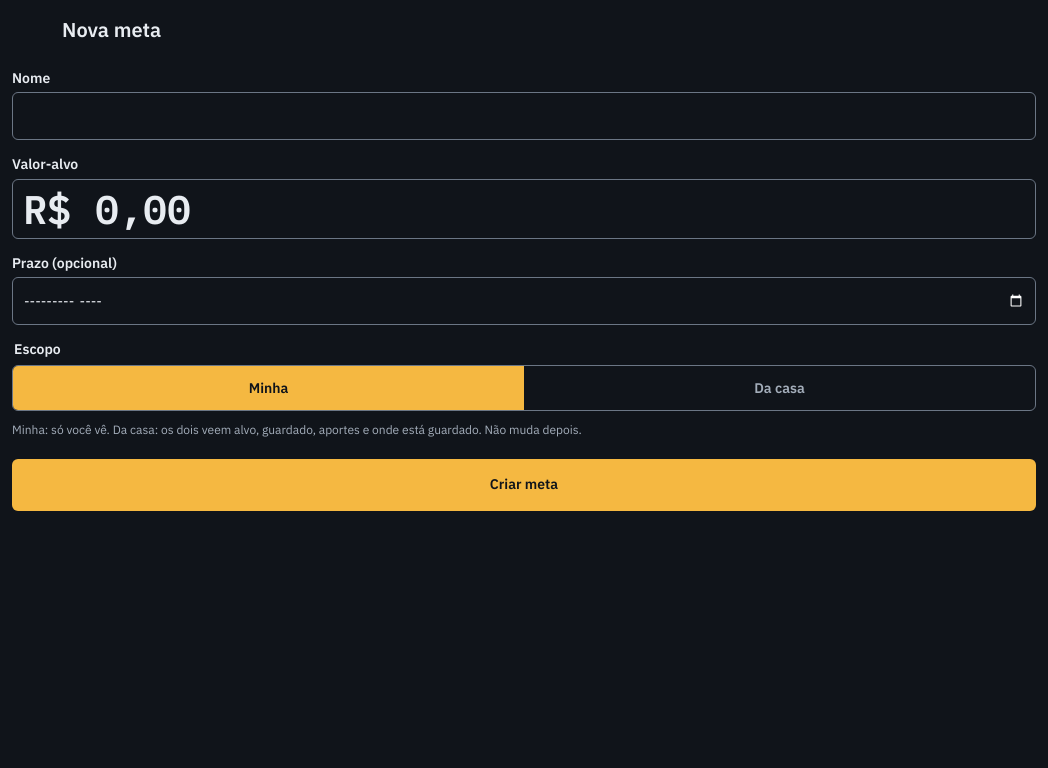
it: T12 nova meta › nome vazio mostra erro e põe o foco no nome
Type "600000" into the field labelled "Valor-alvo" at (524, 209), box [12,179,1036,239]
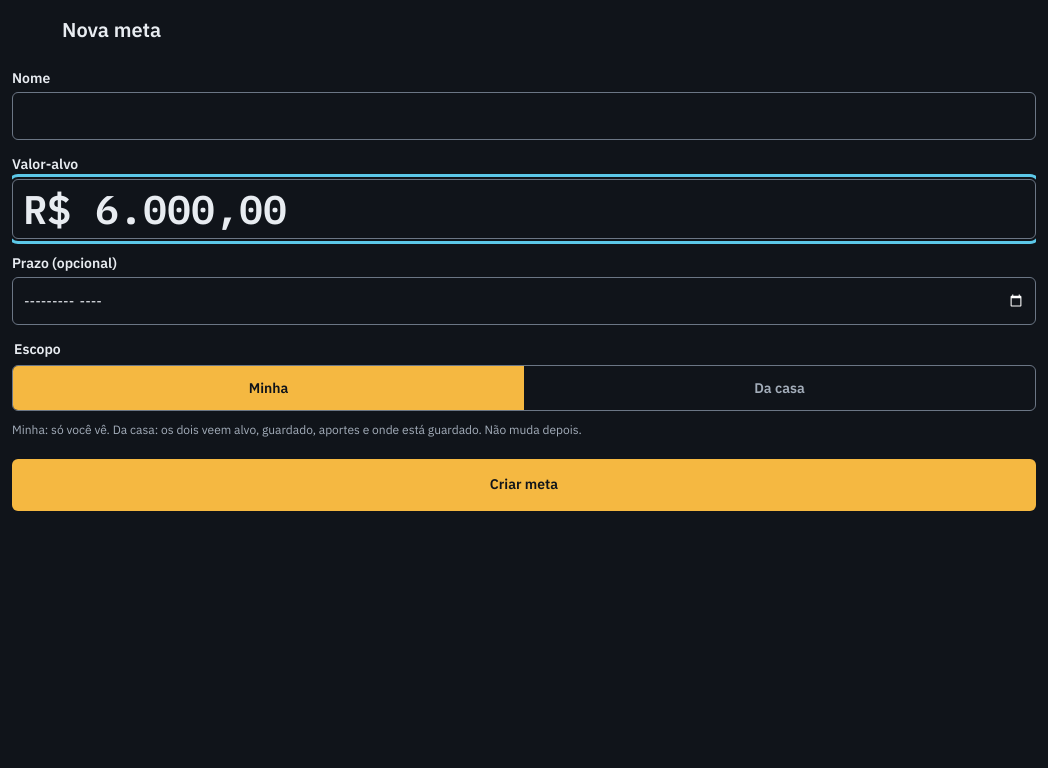
Click the button "Criar meta" at (524, 485), box [12,459,1036,511]
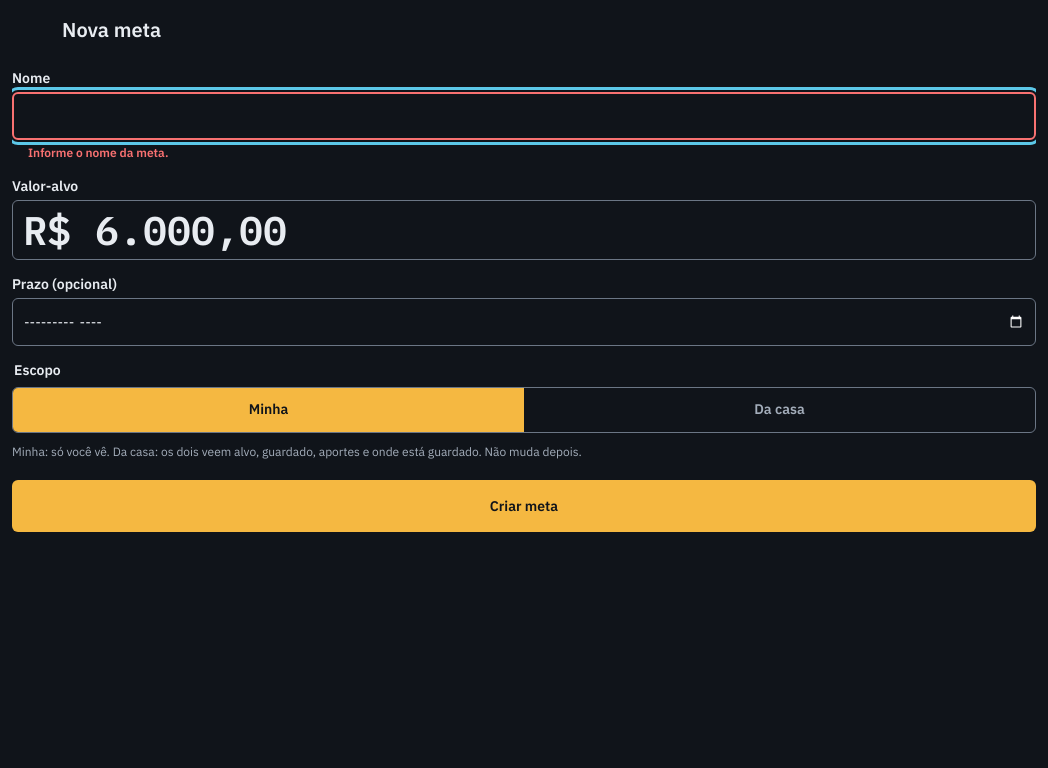
Expected: the text "Informe o nome da meta." is shown, [12,145,168,160]
